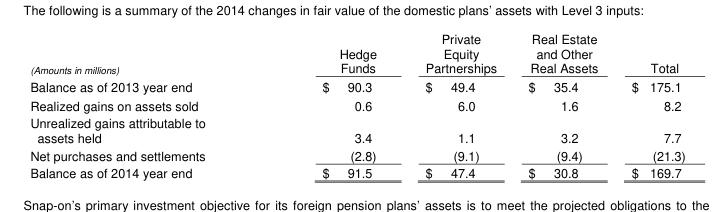table: (29, 29, 684, 180)
table column: (29, 29, 263, 180), (263, 29, 400, 180), (400, 29, 511, 180), (511, 29, 613, 180), (613, 29, 684, 180)
table column header: (29, 29, 684, 76)
table row: (29, 29, 684, 76), (29, 113, 684, 145), (29, 76, 684, 95), (29, 95, 684, 113), (29, 145, 684, 163), (29, 163, 684, 180)
